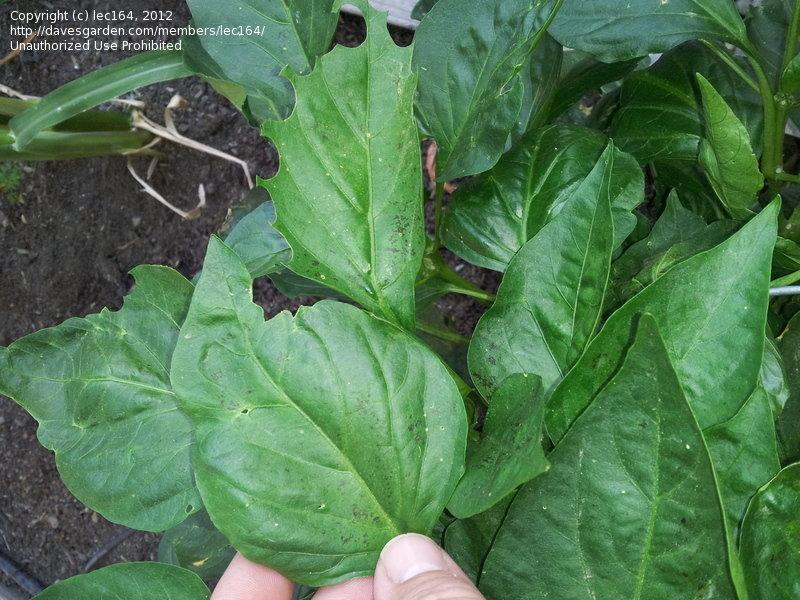Bell_pepper leaf: (217, 176, 612, 441), (352, 3, 579, 246), (629, 108, 800, 321), (651, 236, 800, 450), (587, 272, 757, 396)
